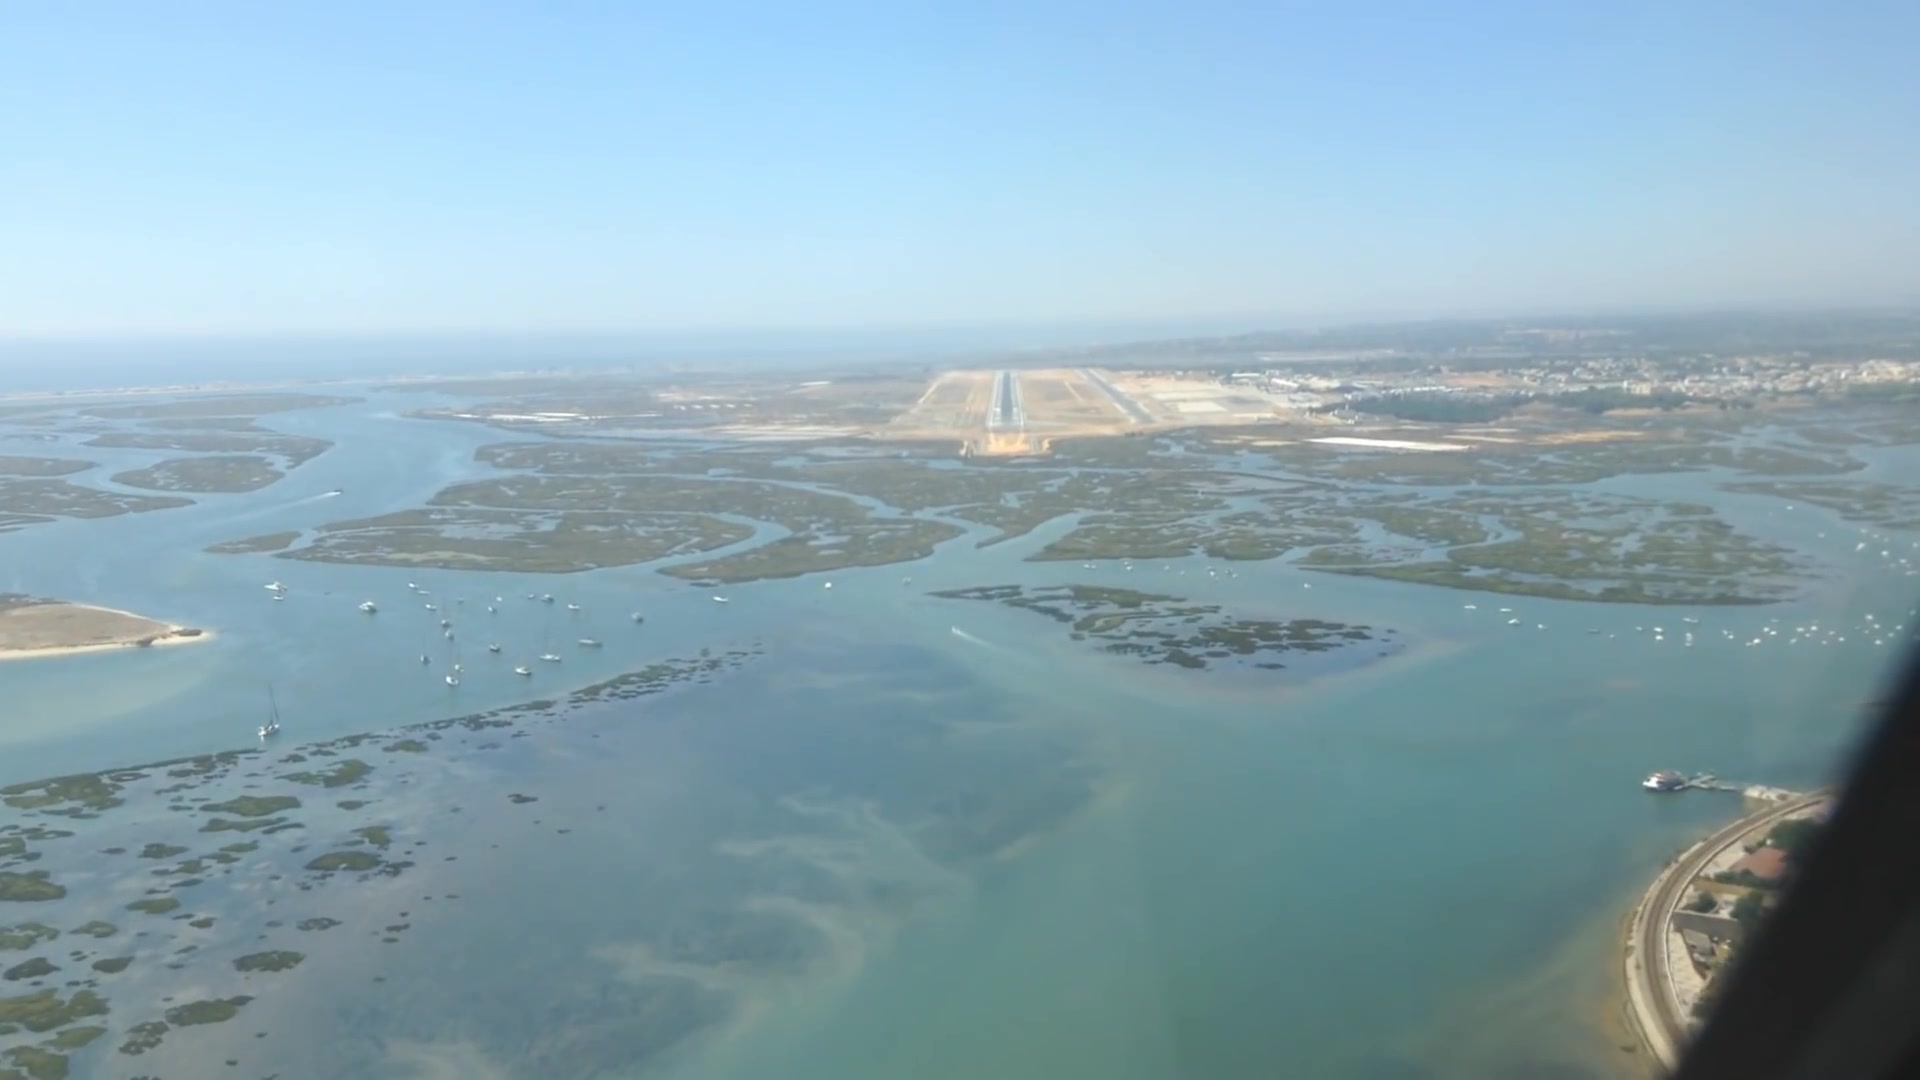runway: (982, 369, 1027, 431)
